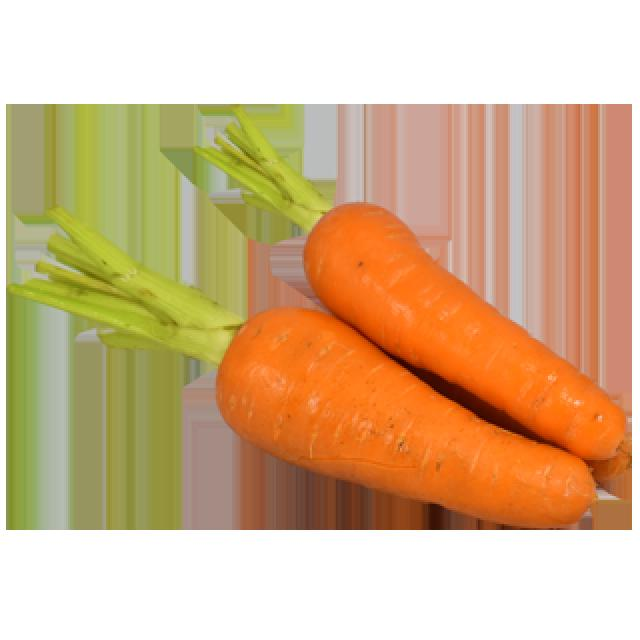Carrot: (222, 303, 603, 537), (304, 202, 630, 468)
